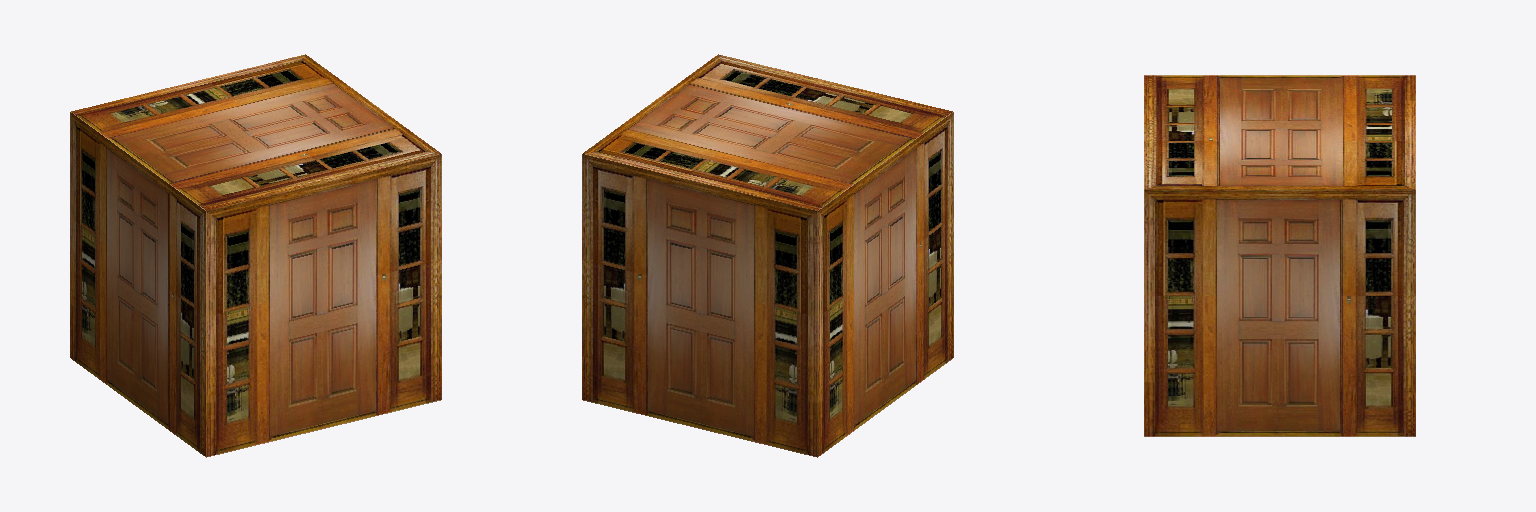
3 views of the same model, side by side, from view 1: azimuth 30°, elevation 25°; view 2: azimuth 150°, elevation 25°; view 3: azimuth 270°, elevation 25° (orthographic).
Parts seen in each view (by area): view 1: cube; view 2: cube; view 3: cube.
Boxes of the visible parts, x1,y1,x2,y2 form: cube: [70, 54, 441, 457]; cube: [582, 54, 953, 457]; cube: [1144, 75, 1415, 436].
Size of the model in its own units: 1 by 1 by 1.
Materials: 1 (1 with a texture image).